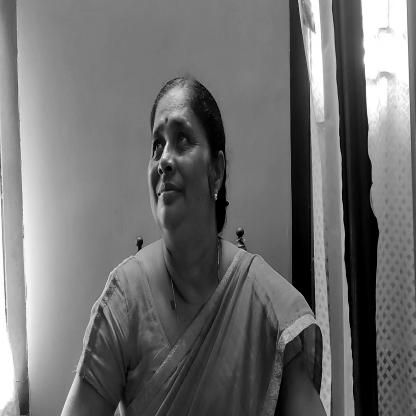Distracted: (149, 85, 220, 242)
